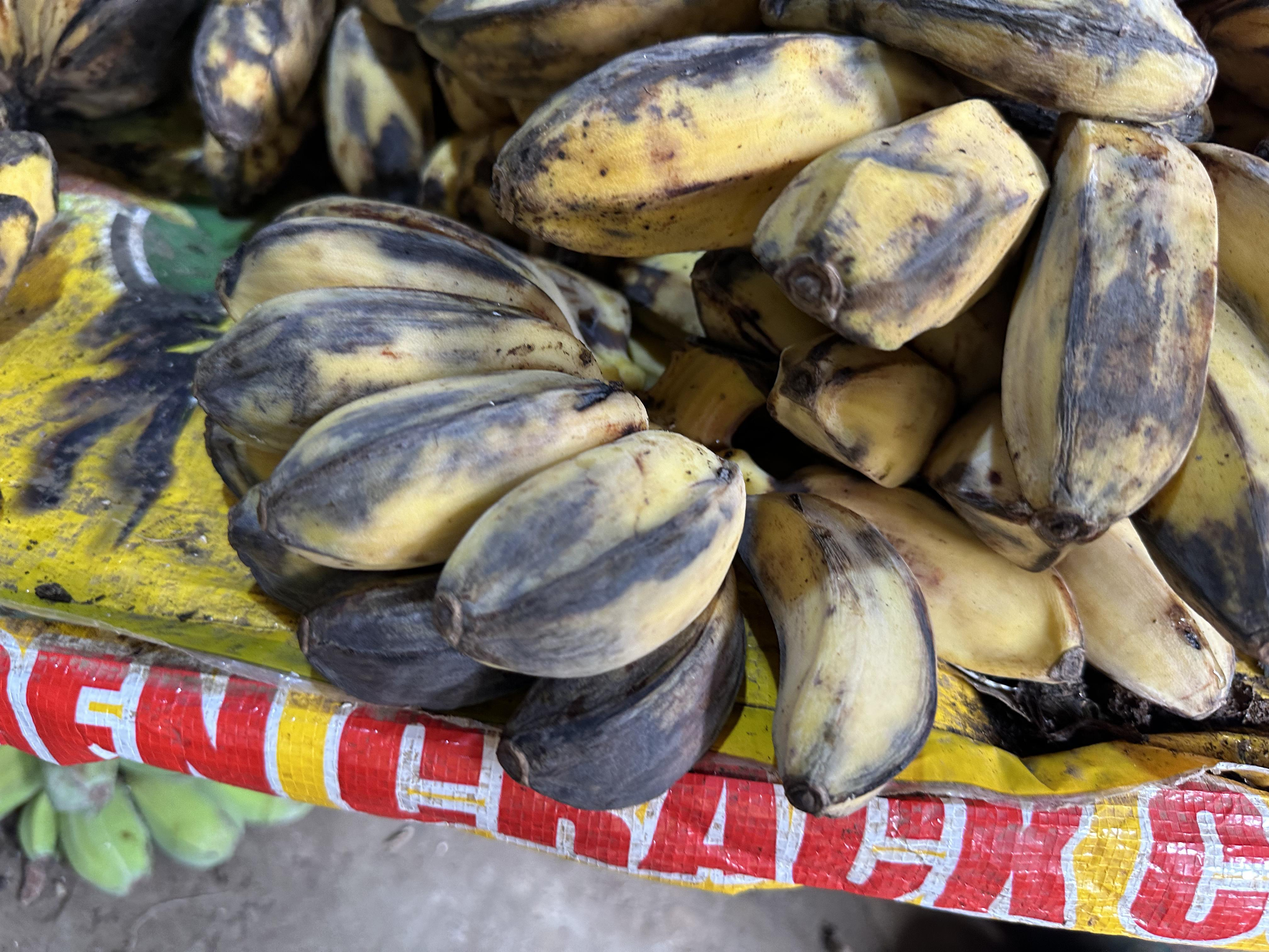overripe: (195, 197, 1084, 815)
ripe: (495, 0, 1218, 565), (192, 0, 759, 240), (1056, 144, 1269, 718), (0, 0, 201, 117)
